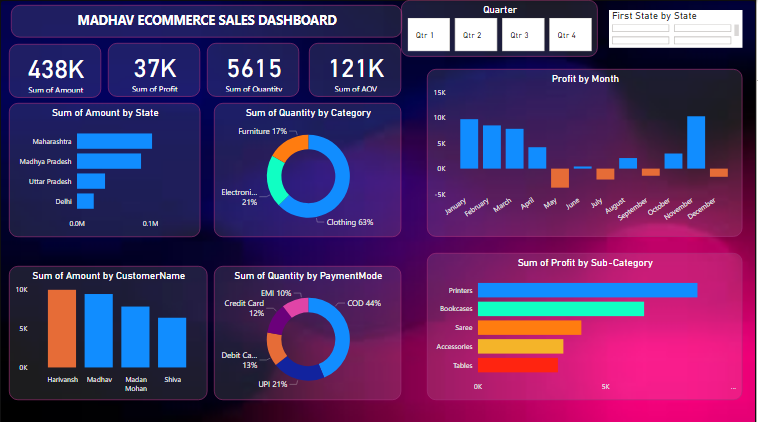

The dashboard page shown, as its layout file describes it:
{"tool":"powerbi","page":{"name":"Page 1","canvas":[1280,720],"ordinal":0},"visuals":[{"type":"textbox","box":[18.5,8.4,661.8,55.4],"z":0},{"type":"columnChart","title":" Profit by Month","fields":{"Y":["Details.Profit"],"Category":["Orders.Order Date.Variation.Date Hierarchy.Month"]},"box":[722.3,117.6,534.2,283.9],"z":1000},{"type":"barChart","fields":{"Category":["Details.Sub-Category"],"Y":["Details.Profit"]},"box":[722.3,428.3,534.2,248.6],"z":2000},{"type":"donutChart","fields":{"Category":["Details.Category"],"Y":["Details.Quantity"]},"box":[362.8,174.7,317.5,226.8],"z":3000},{"type":"donutChart","fields":{"Category":["Details.PaymentMode"],"Y":["Details.Quantity"]},"box":[362.8,450.2,317.5,226.8],"z":4000},{"type":"card","fields":{"Values":["Details.AOV"]},"box":[522.4,72.2,156.2,90.7],"z":5000},{"type":"card","fields":{"Values":["Details.Quantity"]},"box":[351.1,72.2,156.2,90.7],"z":6000},{"type":"card","fields":{"Values":["Details.Amount"]},"box":[15.1,73.9,156.2,90.7],"z":7000},{"type":"card","fields":{"Values":["Details.Profit"]},"box":[183.1,72.2,156.2,90.7],"z":8000},{"type":"barChart","fields":{"Category":["Orders.State"],"Y":["Details.Amount"]},"box":[15.1,174.7,324.2,226.8],"z":9000},{"type":"columnChart","fields":{"Category":["Orders.CustomerName"],"Y":["Details.Amount"]},"box":[15.1,450.2,336,226.8],"z":10000},{"type":"slicer","fields":{"Values":["Orders.Order Date.Variation.Date Hierarchy.Quarter"]},"box":[722.3,8.4,342.7,87.3],"z":10001},{"type":"slicer","fields":{"Values":["Orders.State"]},"box":[1081.8,8.4,174.7,87.3],"z":10002}]}

Visuals, with their boxes in screenshot pixels (x1, y1, x2, y2), scaled from the page's 1280x720 canvas onto the 758x422 screenshot:
textbox: rect(11, 5, 403, 37)
" Profit by Month" columnChart: rect(428, 69, 744, 235)
barChart - Details.Sub-Category x Details.Profit: rect(428, 251, 744, 397)
donutChart - Details.Category x Details.Quantity: rect(215, 102, 403, 235)
donutChart - Details.PaymentMode x Details.Quantity: rect(215, 264, 403, 397)
card - Details.AOV: rect(309, 42, 402, 95)
card - Details.Quantity: rect(208, 42, 300, 95)
card - Details.Amount: rect(9, 43, 101, 96)
card - Details.Profit: rect(108, 42, 201, 95)
barChart - Orders.State x Details.Amount: rect(9, 102, 201, 235)
columnChart - Orders.CustomerName x Details.Amount: rect(9, 264, 208, 397)
slicer - Orders.Order Date.Variation.Date Hierarchy.Quarter: rect(428, 5, 631, 56)
slicer - Orders.State: rect(641, 5, 744, 56)
